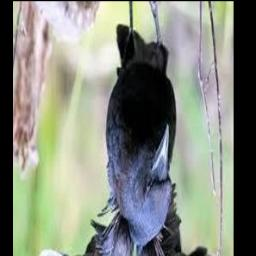Crow: (37, 1, 215, 256)
